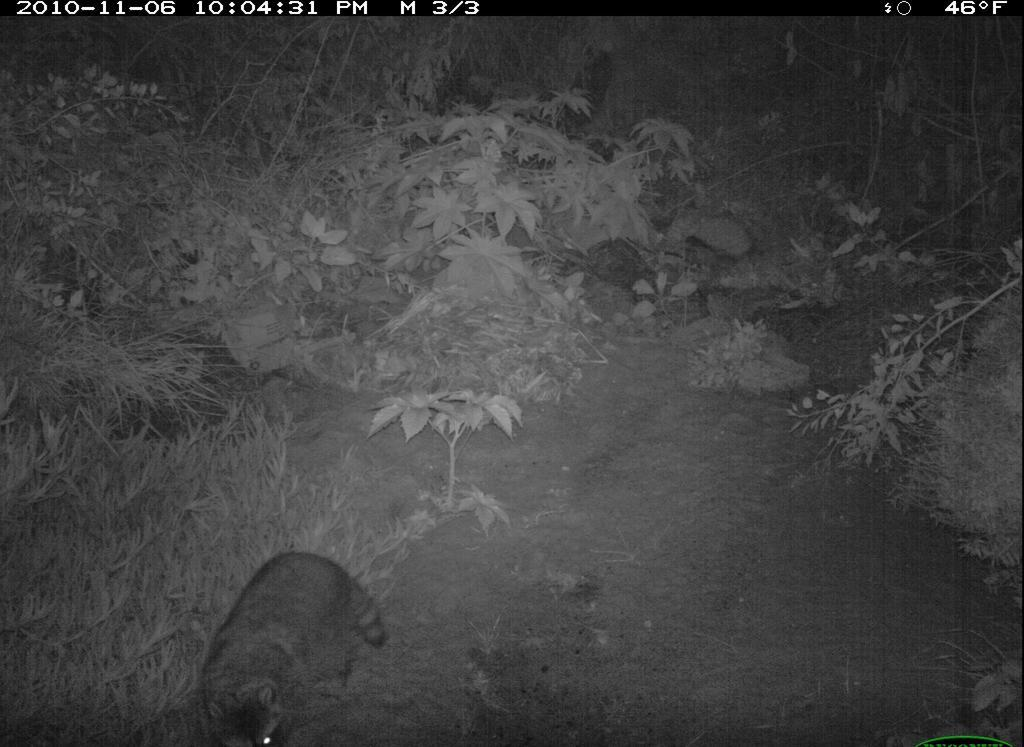raccoon: (191, 543, 401, 739)
